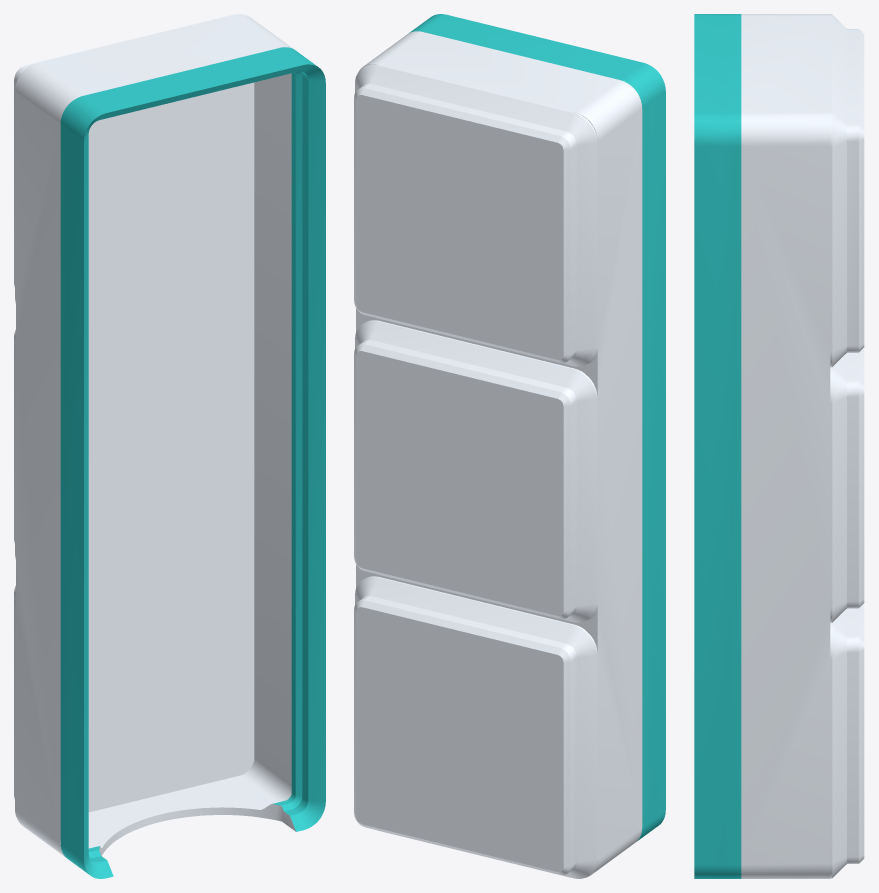
The model's file is wall-cutout-1x3-finger.glb.
The picture shows the model from 3 angles, left to right: view 1: azimuth 30°, elevation 25°; view 2: azimuth 150°, elevation 25°; view 3: azimuth 270°, elevation 25°; orthographic projection.
Size of the model in its own units: 41.51 by 126 by 25.42.
